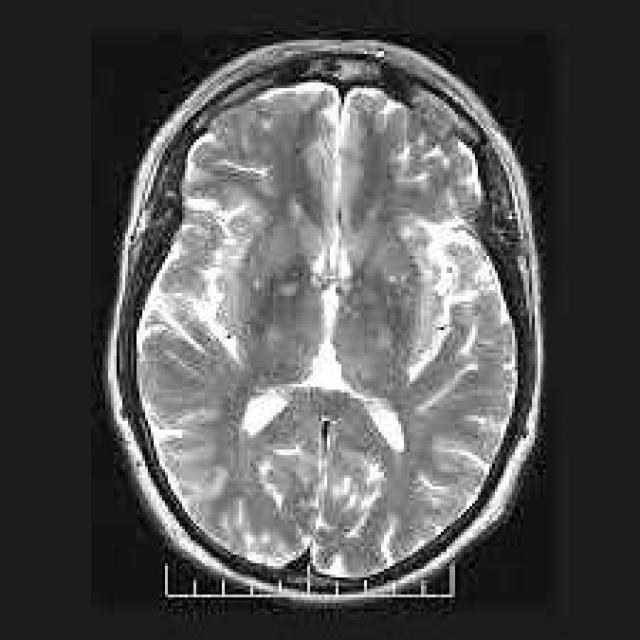notumor: (102, 40, 543, 597)
